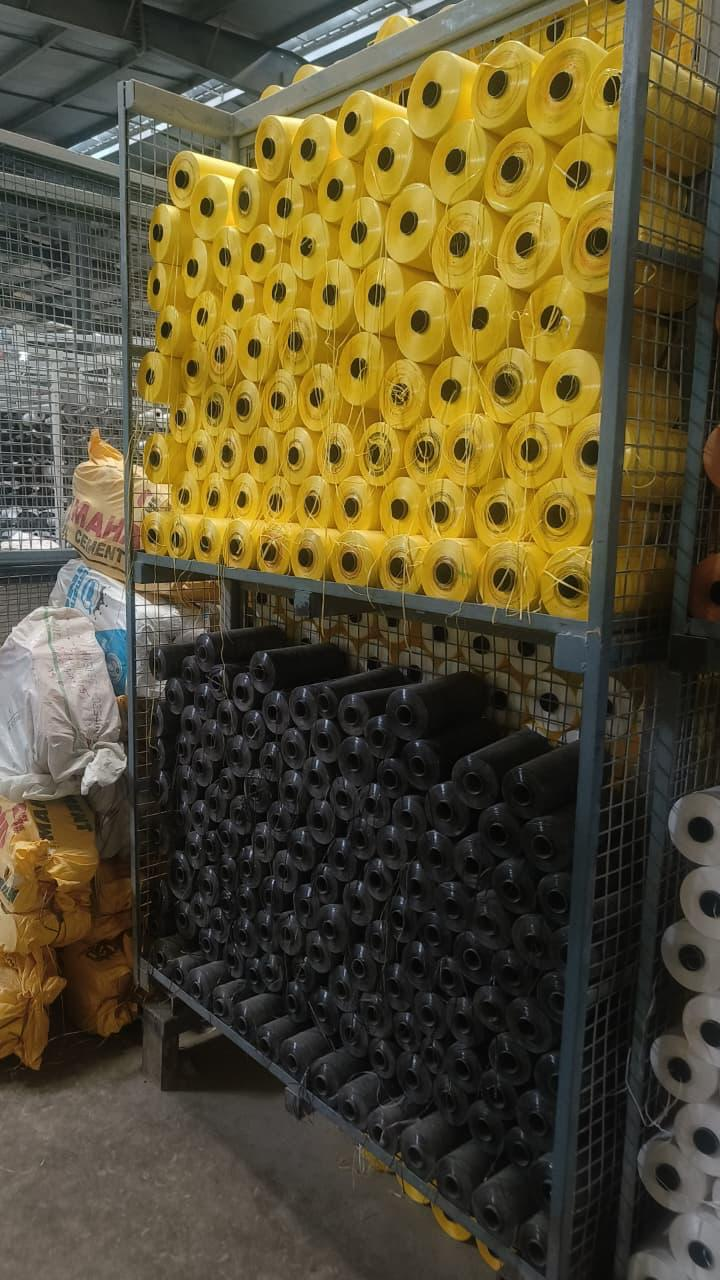thread_roll: (1, 434, 138, 1061)
